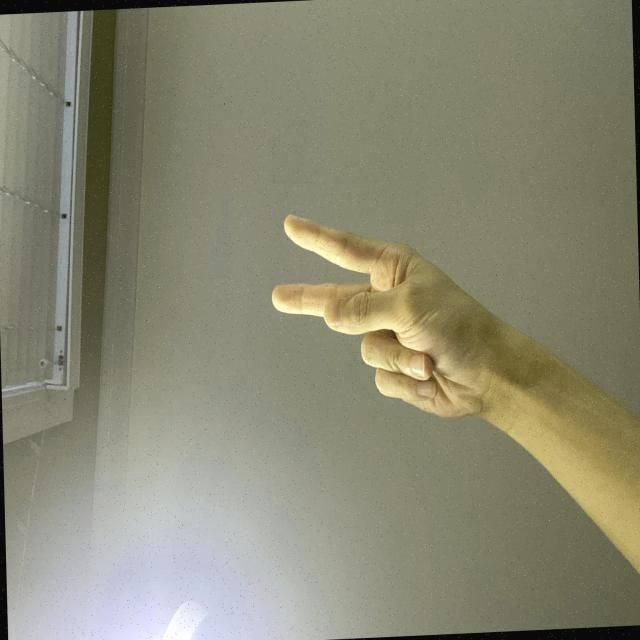K: (154, 356, 331, 640)
